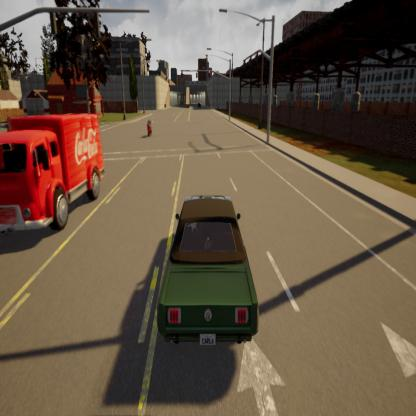Cars: (157, 193, 258, 351), (0, 112, 107, 234), (146, 115, 152, 138)
